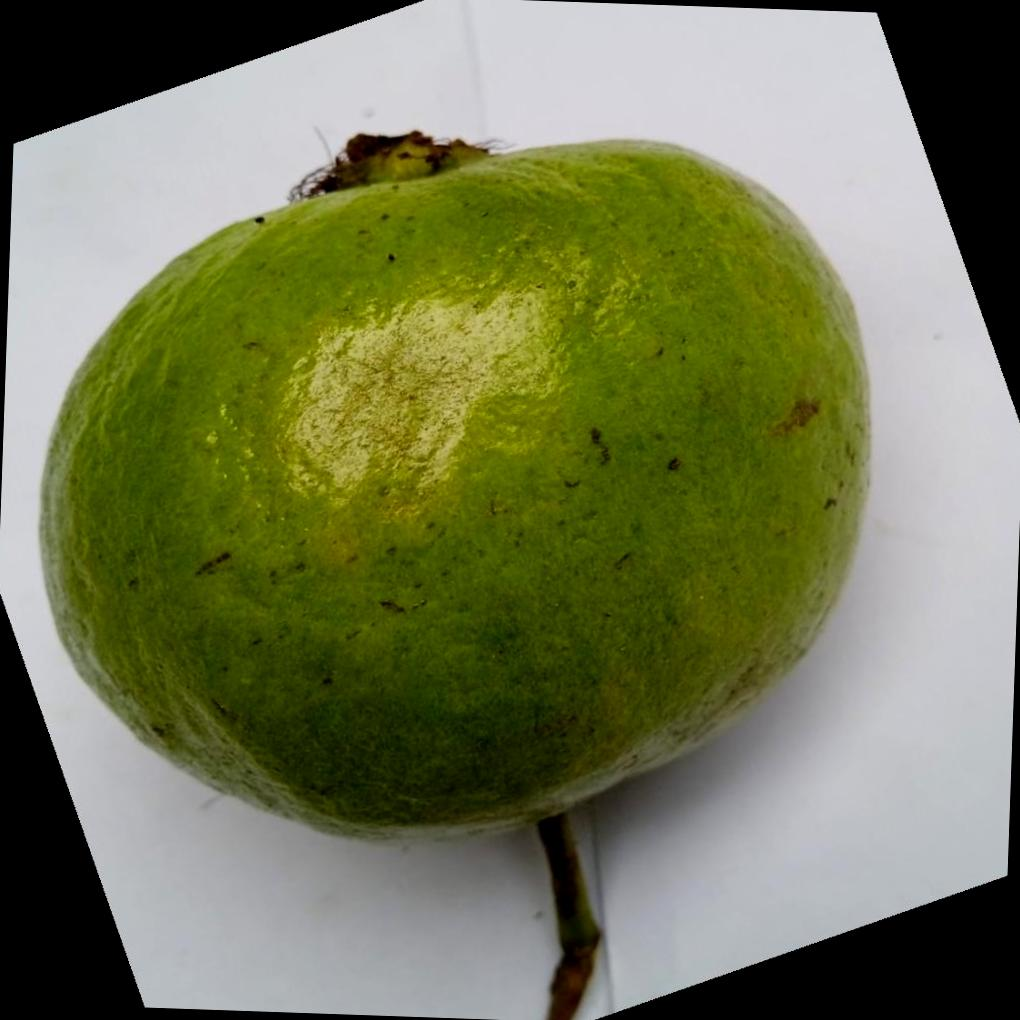FreshGuava: (34, 137, 872, 845)
